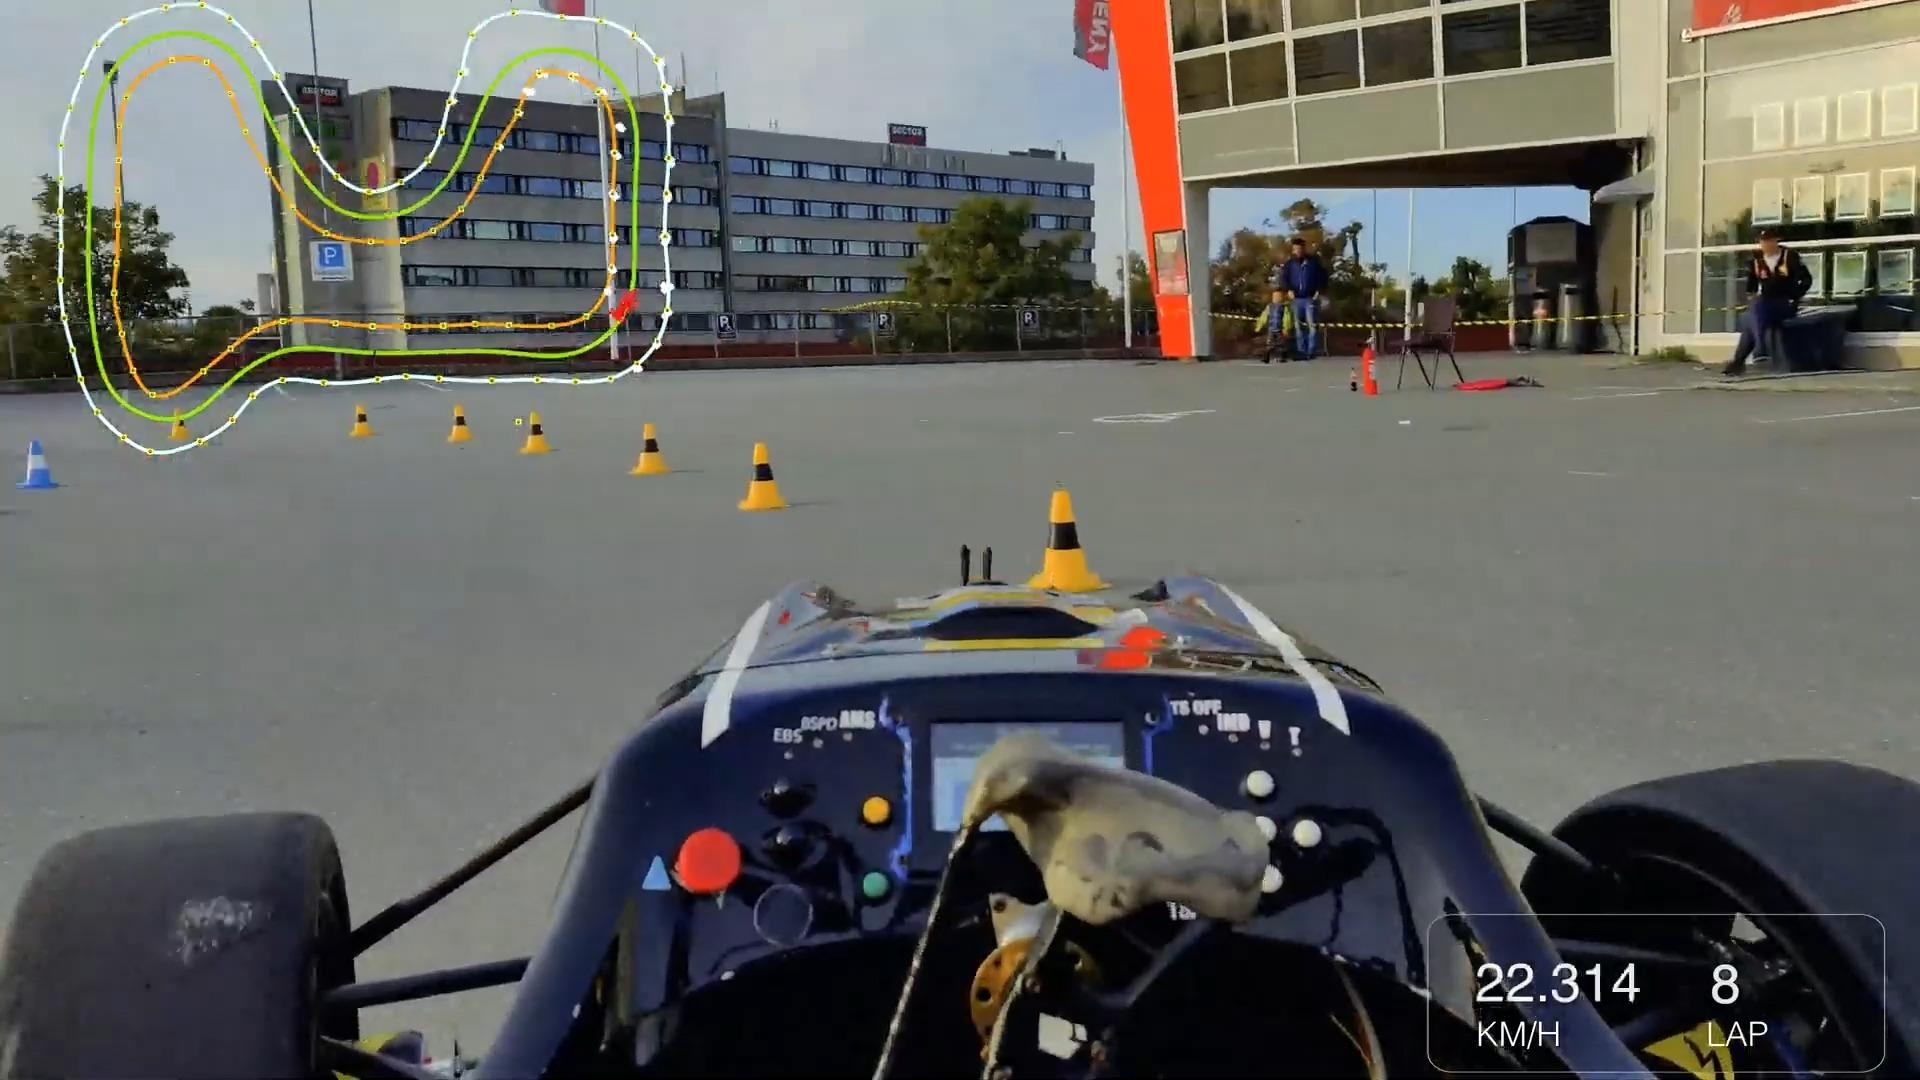blue_cone: (21, 433, 57, 491)
yellow_cone: (1022, 487, 1110, 589), (738, 440, 791, 512), (632, 417, 669, 480), (520, 409, 558, 458), (167, 406, 194, 447), (351, 401, 376, 440), (450, 401, 471, 446)
